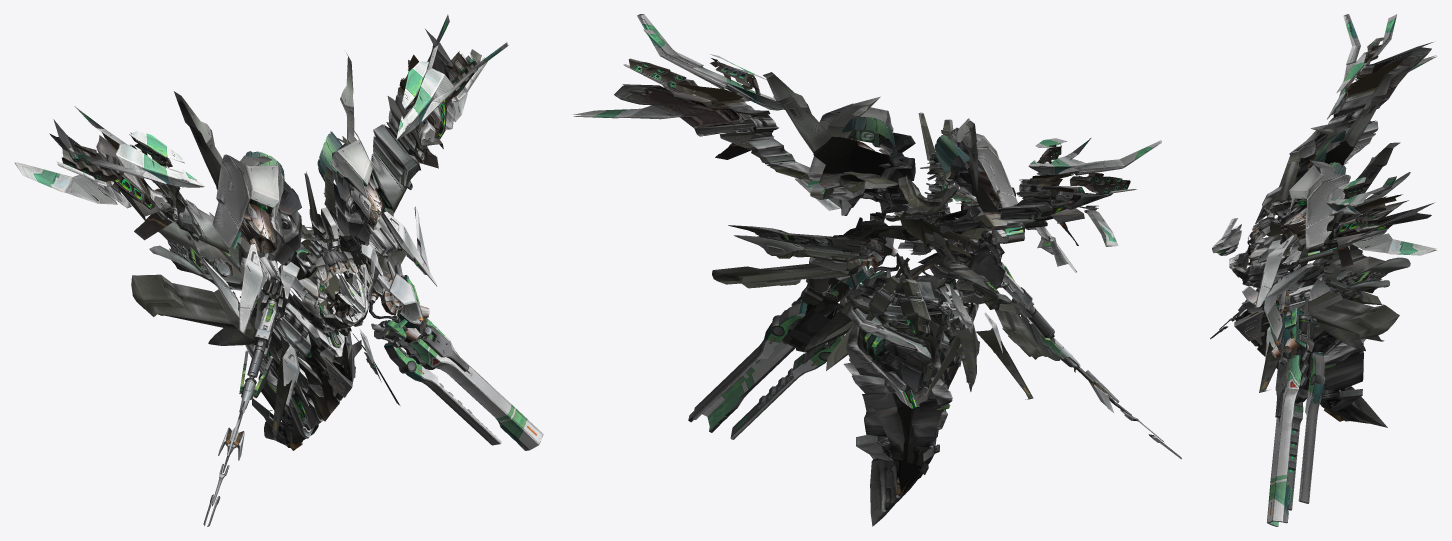
File: mbg004_anmi.glb
3 views of the same model, side by side, from view 1: azimuth 30°, elevation 25°; view 2: azimuth 150°, elevation 25°; view 3: azimuth 270°, elevation 25° (orthographic). The views are drawn at different scales.
Visible parts, largest first — view 1: mbg004_anmi; view 2: mbg004_anmi; view 3: mbg004_anmi.
Part boxes in pixels (box(x1,y1,x2,y2)): mbg004_anmi: box(15, 14, 543, 526); mbg004_anmi: box(573, 14, 1181, 526); mbg004_anmi: box(1210, 14, 1436, 526).
Bounding box in the file's own units: 22.04 × 18.29 × 10.91.
12 materials, 12 textured.
